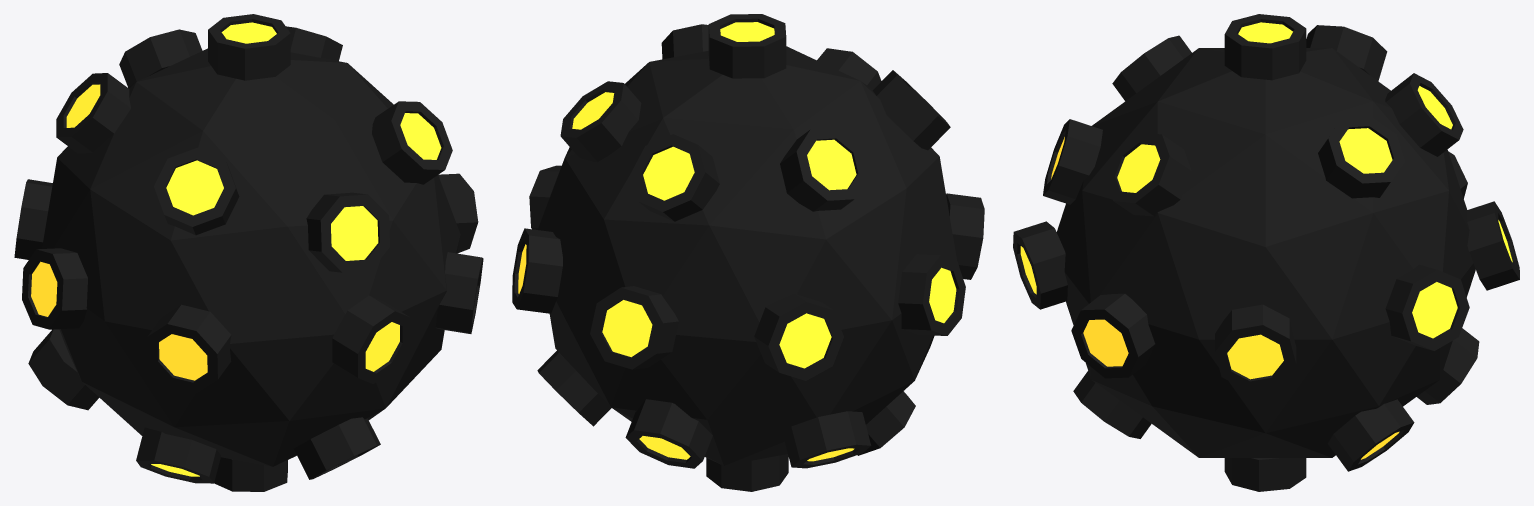
File: bomb1.fbx
3 renders of one model, left to right at view 1: azimuth 30°, elevation 25°; view 2: azimuth 150°, elevation 25°; view 3: azimuth 270°, elevation 25°, orthographic.
Parts seen in each view (by area): view 1: Icosphere, Cylinder.015, Cylinder.014, Cylinder.012, Cylinder.016, Cylinder.013, Cylinder.021, Cylinder.007, Cylinder.002, Cylinder.018, Cylinder.019, Cylinder.017 (+6 smaller); view 2: Icosphere, Cylinder.008, Cylinder.006, Cylinder.002, Cylinder.001, Cylinder.007, Cylinder.021, Cylinder, Cylinder.010, Cylinder.011, Cylinder.005, Cylinder.012 (+7 smaller); view 3: Icosphere, Cylinder.004, Cylinder.005, Cylinder.013, Cylinder.017, Cylinder, Cylinder.021, Cylinder.001, Cylinder.016, Cylinder.009, Cylinder.006, Cylinder.014 (+5 smaller).
Part boxes in pixels (x1,y1,x2,y2): Icosphere: (42,48,460,466); Cylinder.015: (147,304,231,392); Cylinder.014: (306,192,389,272); Cylinder.012: (154,147,239,235); Cylinder.016: (332,295,410,383); Cylinder.013: (372,101,452,184); Cylinder.021: (208,14,290,80); Cylinder.007: (22,248,87,329); Cylinder.002: (56,73,130,153); Cylinder.018: (136,427,220,483); Cylinder.019: (293,417,380,479); Cylinder.017: (435,252,483,333); Icosphere: (537,46,956,465); Cylinder.008: (754,294,843,380); Cylinder.006: (590,286,678,369); Cylinder.002: (780,127,868,211); Cylinder.001: (630,134,719,221); Cylinder.007: (898,254,965,335); Cylinder.021: (708,14,786,78); Cylinder: (560,81,641,162); Cylinder.010: (625,399,712,468); Cylinder.011: (783,411,871,468); Cylinder.005: (512,228,562,313); Cylinder.012: (872,70,950,150); Icosphere: (1056,48,1475,457); Cylinder.004: (1215,304,1296,390); Cylinder.005: (1385,264,1469,350); Cylinder.013: (1105,132,1191,216); Cylinder.017: (1071,293,1155,378); Cylinder: (1318,116,1404,198); Cylinder.021: (1224,14,1306,80); Cylinder.001: (1385,73,1463,156); Cylinder.016: (1013,221,1067,309); Cylinder.009: (1327,399,1414,471); Cylinder.006: (1467,201,1519,290); Cylinder.014: (1043,119,1102,204).
Size of the model in its own units: 1116 by 1134 by 1175.
